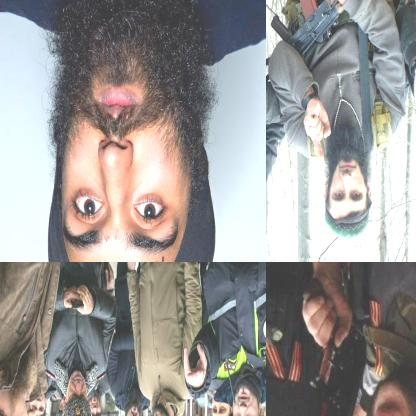rifle: (266, 282, 371, 415), (269, 0, 379, 64)
